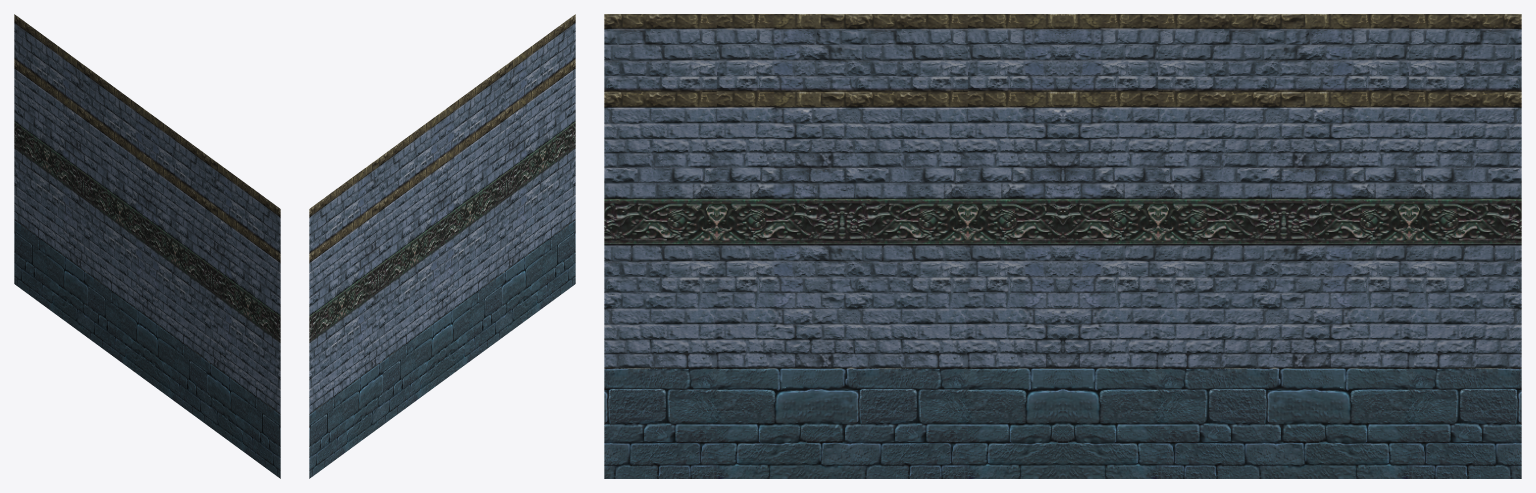
Rendered from Kunlun_wall01.FBX.
The picture shows the model from 3 angles, left to right: view 1: azimuth 30°, elevation 25°; view 2: azimuth 150°, elevation 25°; view 3: azimuth 270°, elevation 25°; orthographic projection. The views are drawn at different scales.
Parts seen in each view (by area): view 1: kunlun_wall01; view 2: kunlun_wall01; view 3: kunlun_wall01.
Boxes of the visible parts, x1,y1,x2,y2 form: kunlun_wall01: (14, 14, 280, 478); kunlun_wall01: (309, 14, 575, 478); kunlun_wall01: (604, 14, 1521, 478).
Bounding box in the file's own units: 0.073 × 474 × 848.
Materials: 1 (1 with a texture image).
